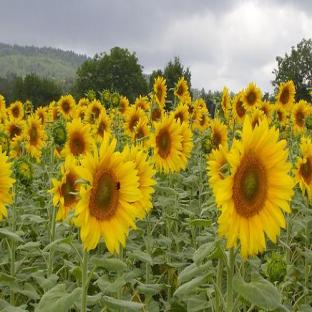sunflower: (213, 118, 295, 312), (72, 133, 145, 312)
